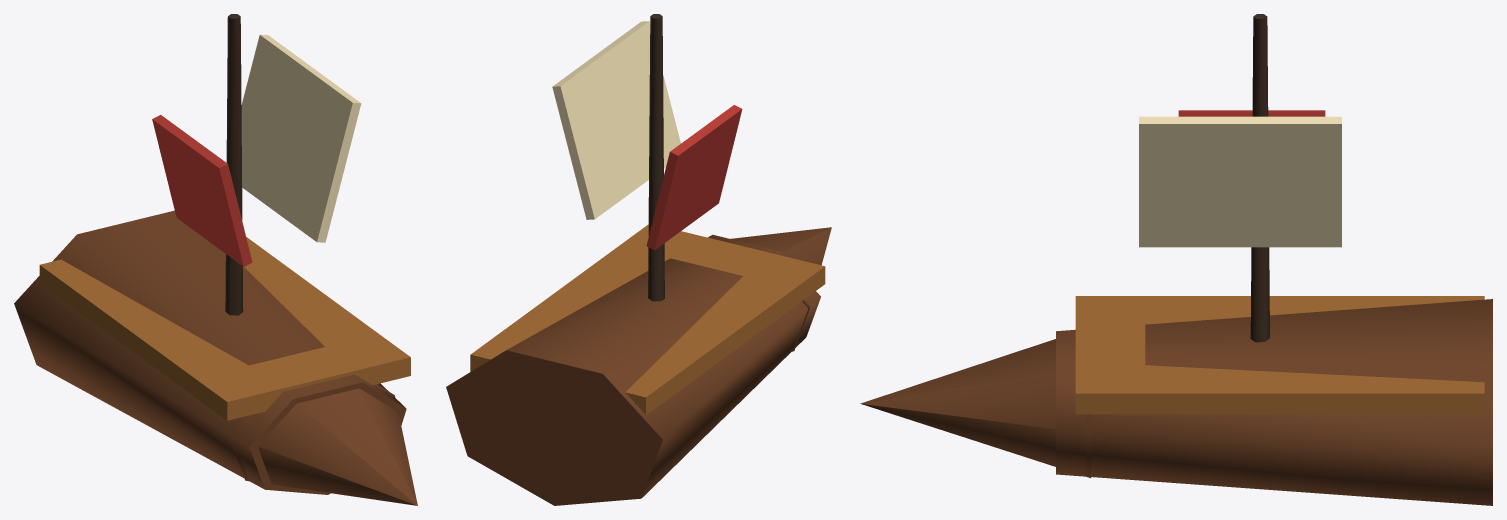
Rendered from boat_small.glb.
The picture shows the model from 3 angles, left to right: view 1: azimuth 30°, elevation 25°; view 2: azimuth 150°, elevation 25°; view 3: azimuth 270°, elevation 25°; orthographic projection. The views are drawn at different scales.
Visible parts, largest first — view 1: boat_small; view 2: boat_small; view 3: boat_small.
Part boxes in pixels (x1,y1,x2,y2): boat_small: (14, 14, 417, 505); boat_small: (446, 14, 831, 505); boat_small: (860, 14, 1492, 505).
Size of the model in its own units: 1.01 by 1.85 by 2.24.
